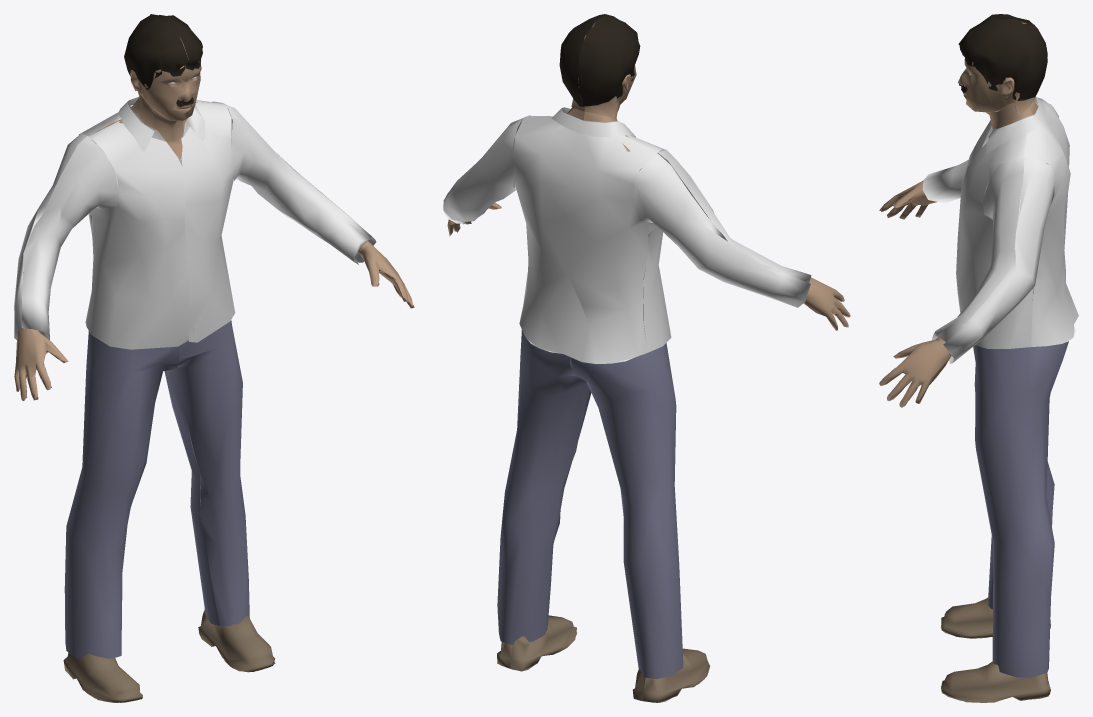
Rendered from man_05.glb.
The picture shows the model from 3 angles, left to right: view 1: azimuth 30°, elevation 25°; view 2: azimuth 150°, elevation 25°; view 3: azimuth 270°, elevation 25°; orthographic projection.
Parts seen in each view (by area): view 1: crowd; view 2: crowd; view 3: crowd.
Part boxes in pixels (x1,y1,x2,y2): crowd: (14,14,414,702); crowd: (443,14,850,702); crowd: (879,14,1078,702).
Size of the model in its own units: 1.1 by 1.75 by 0.4925.
